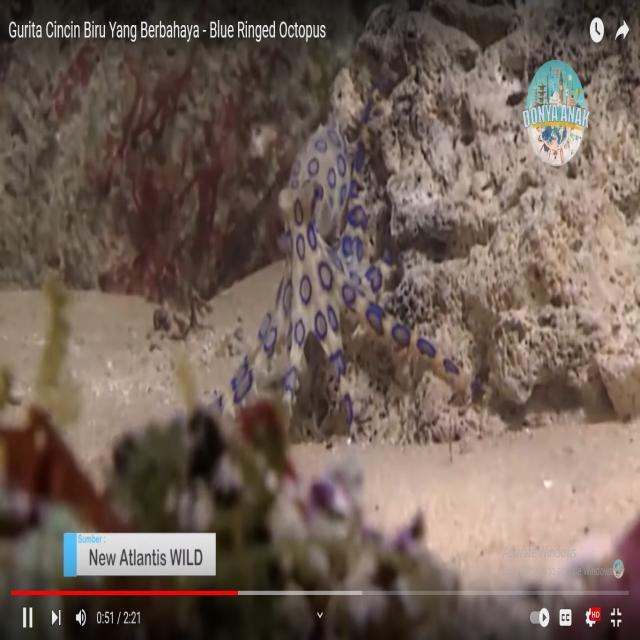blue_ringed_octopus: (188, 123, 473, 444)
